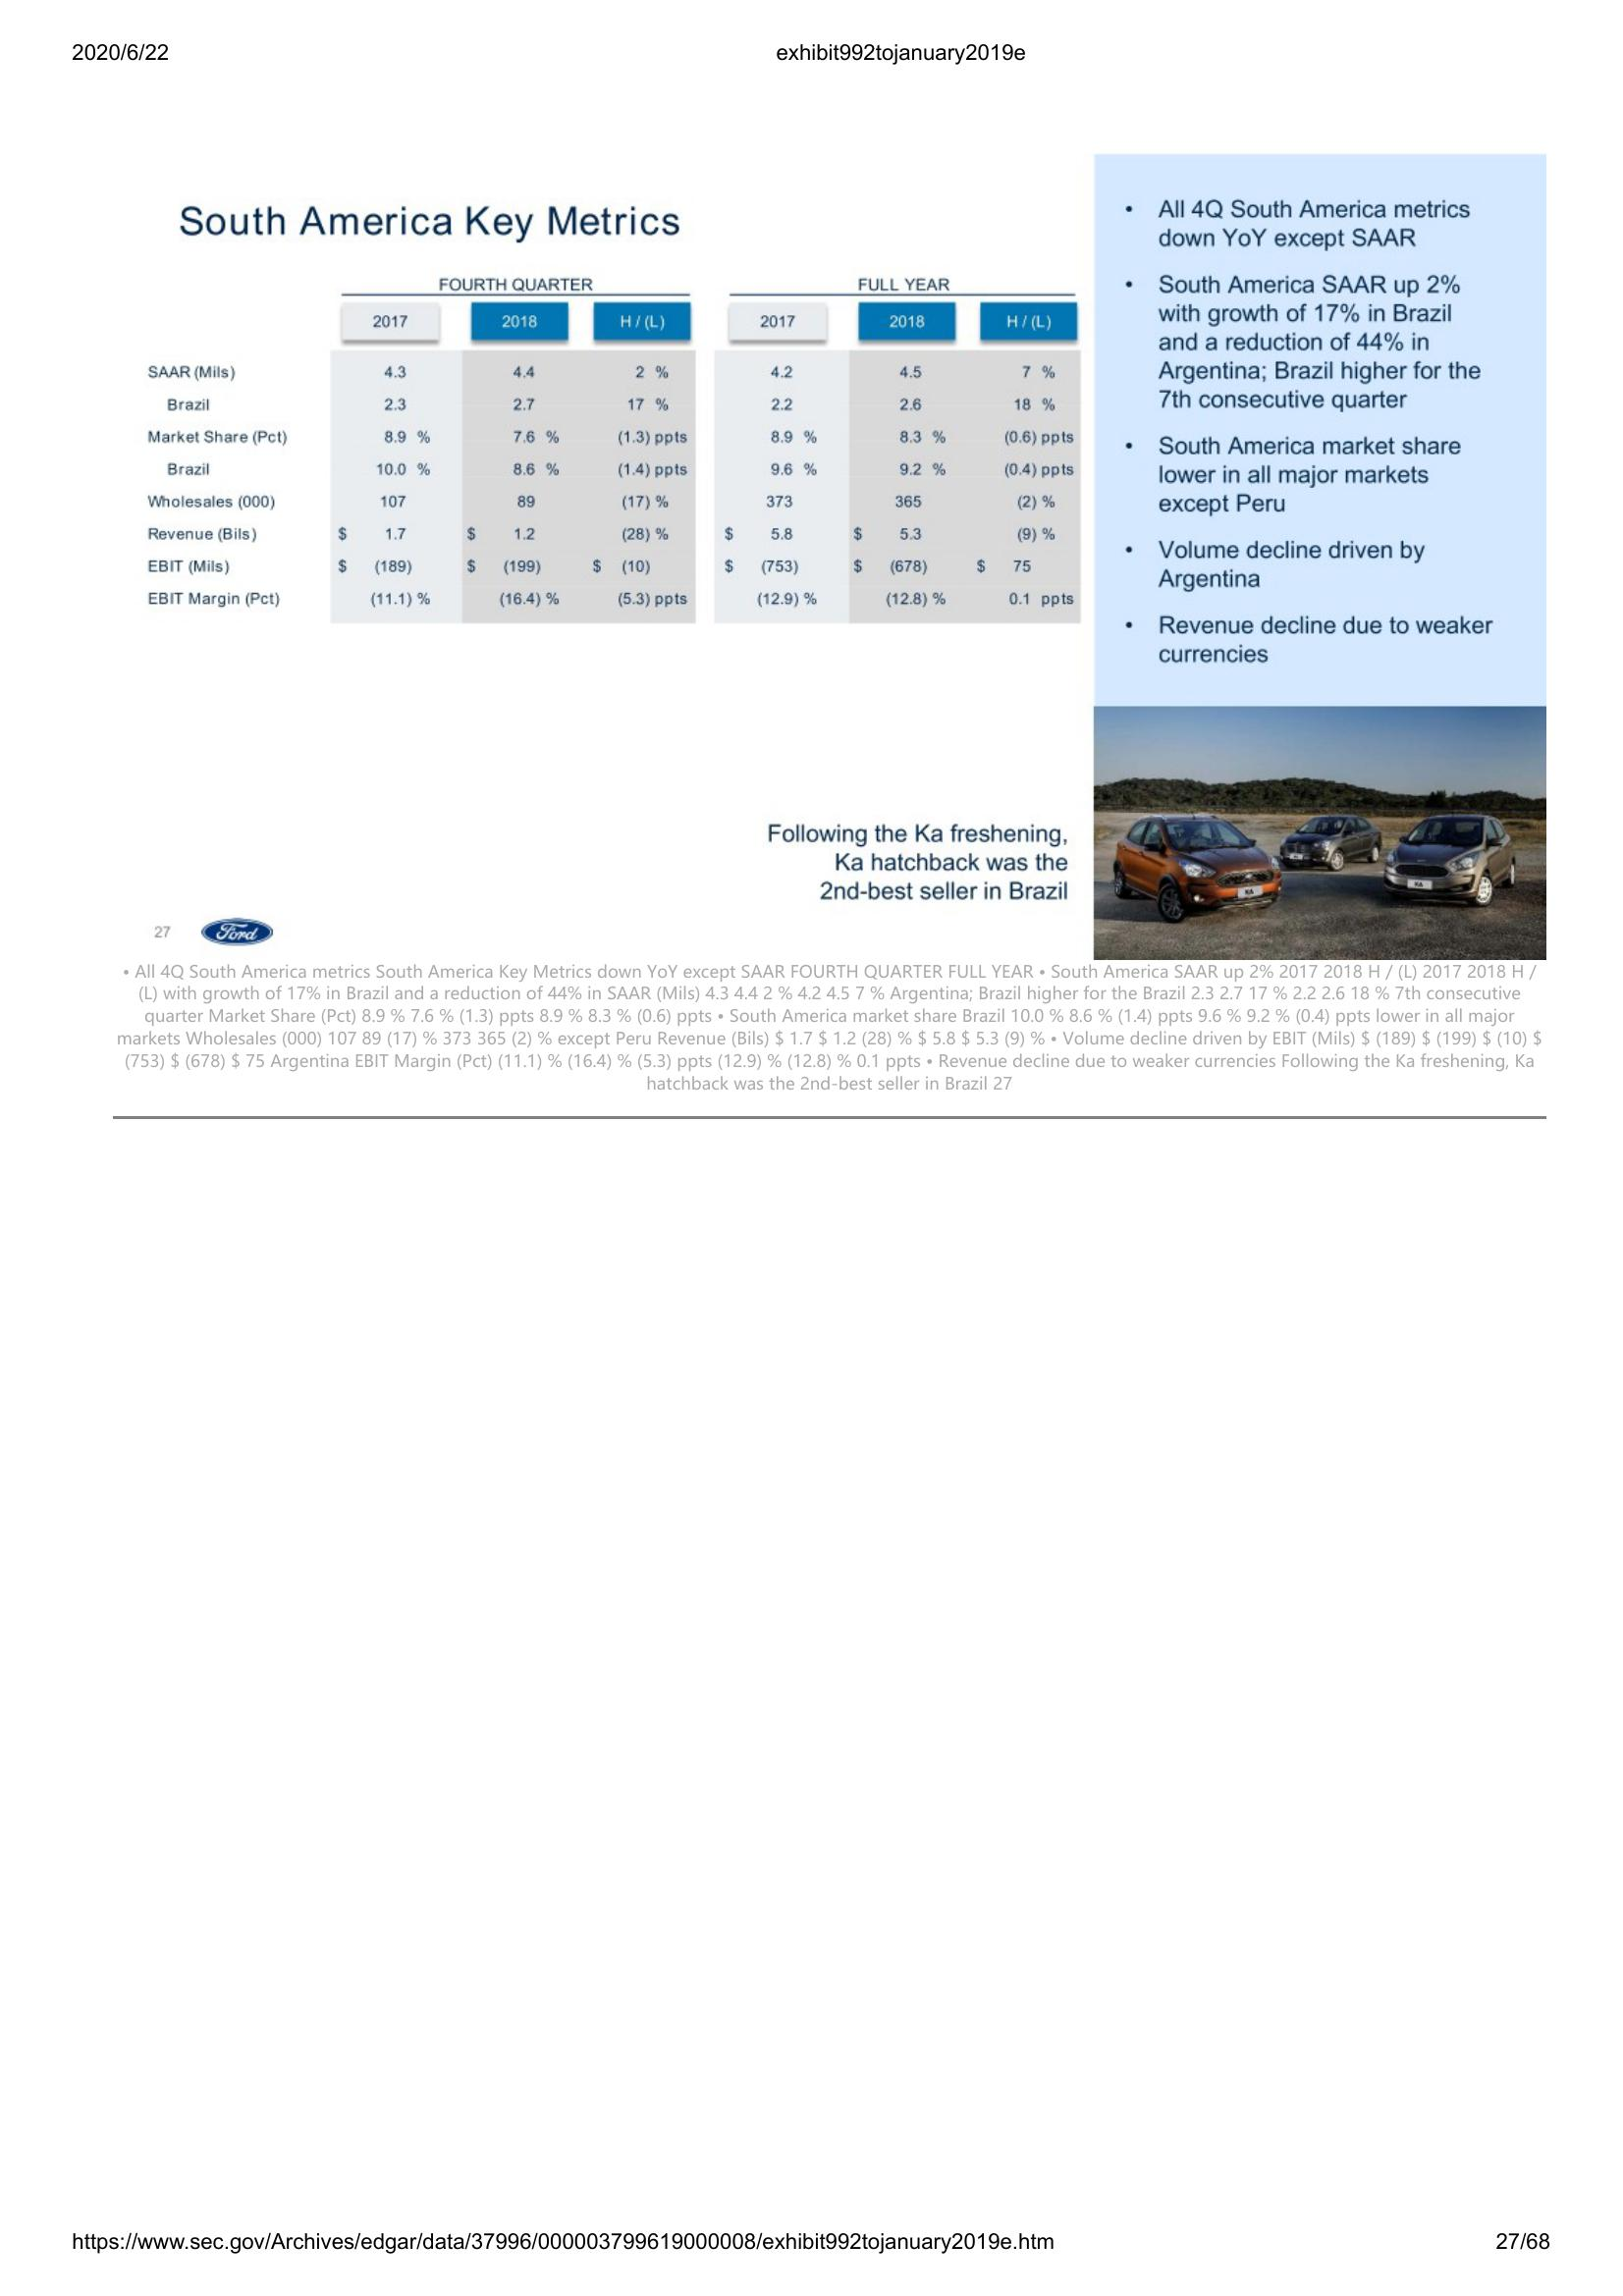table: (139, 274, 1080, 623)
